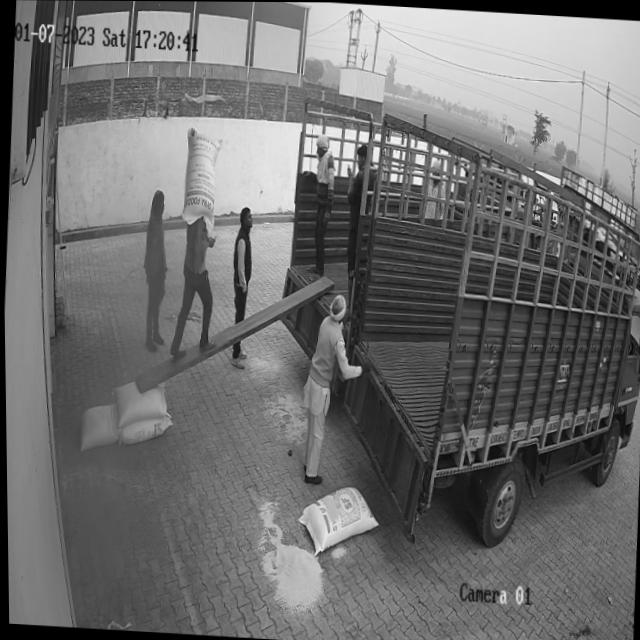sack: (294, 484, 378, 559), (181, 127, 223, 227), (110, 379, 167, 430), (76, 402, 120, 452), (117, 414, 171, 446)
